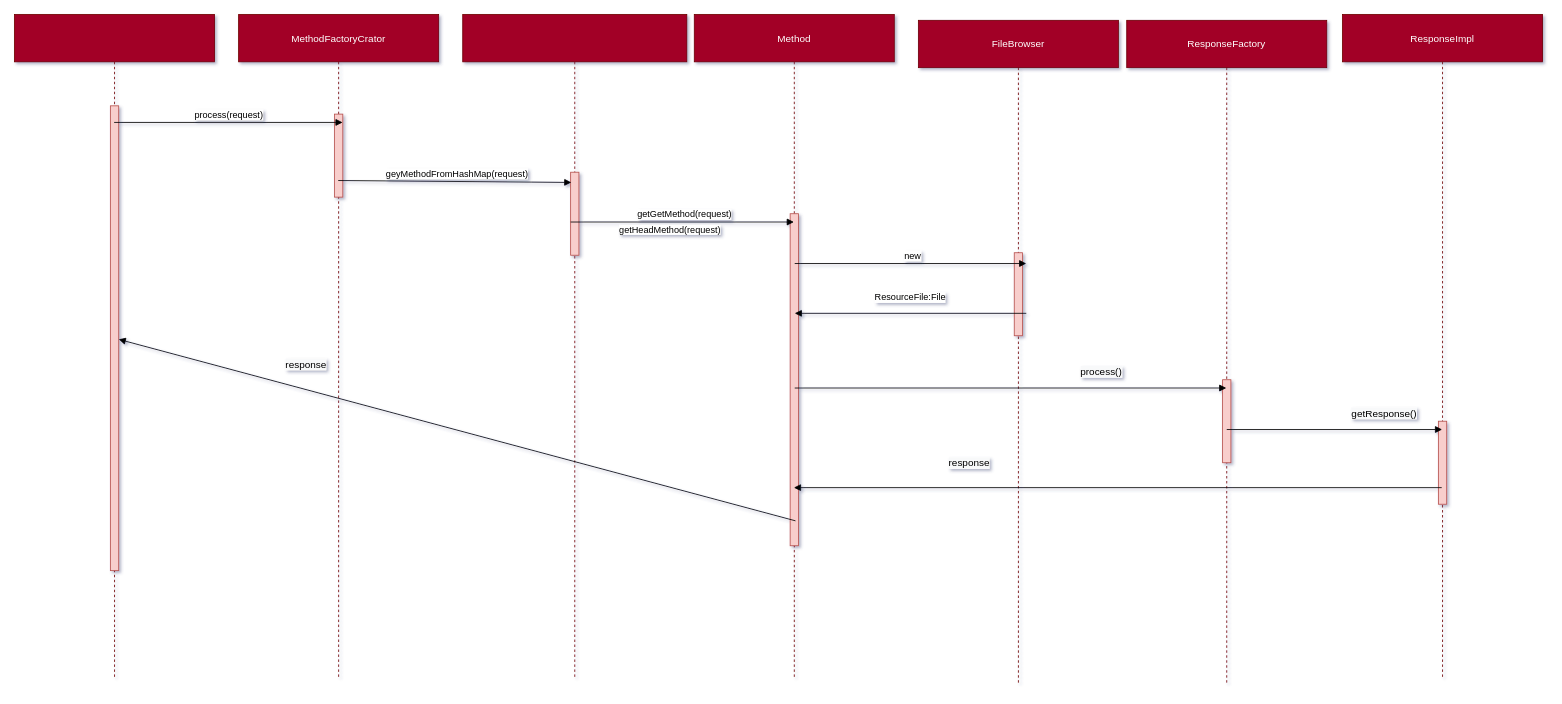
This 1562x704 diagram has some shape labels left out. The box of each missing label's shape, as (x1, y1, x2, y2) in pixels:
:RequestProcessor: (14, 14, 215, 679)
MethodFactory: (462, 14, 687, 679)
